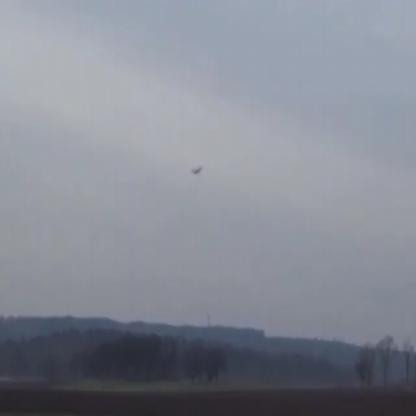CIV_Plane: (188, 159, 206, 181)
